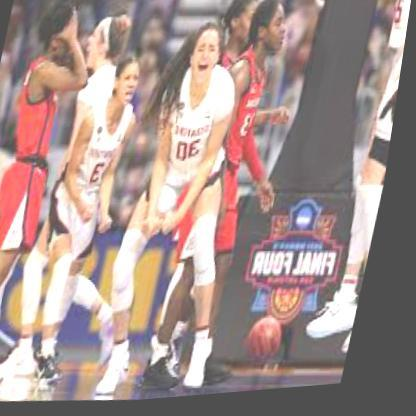basketball: (255, 321, 297, 370)
